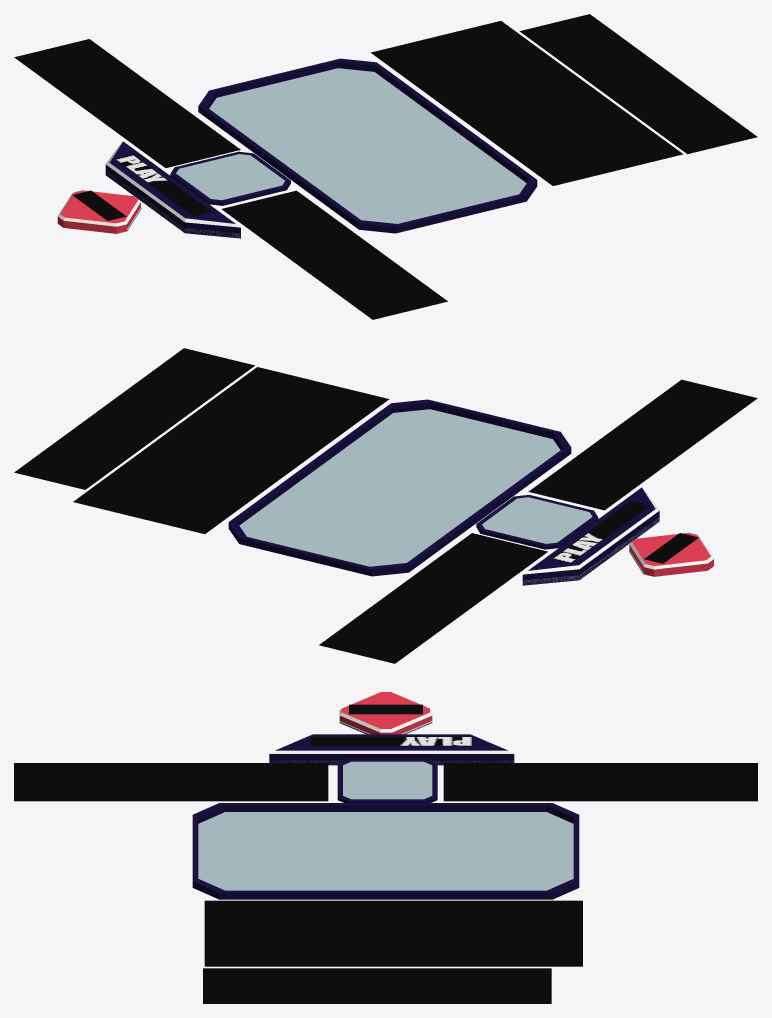
Rendered from BoardCenter.fbx.
3 renders of one model, top to bottom at view 1: azimuth 30°, elevation 25°; view 2: azimuth 150°, elevation 25°; view 3: azimuth 270°, elevation 25°, orthographic. The views are drawn at different scales.
Visible parts, largest first — view 1: ActionInfoPanel, CardsFrame, UserInfoPanels, PlayCardButton, DiceFrame, RollButton; view 2: ActionInfoPanel, CardsFrame, UserInfoPanels, PlayCardButton, DiceFrame, RollButton, PlayCardButtonPressed; view 3: ActionInfoPanel, CardsFrame, UserInfoPanels, PlayCardButton, DiceFrame, RollButton.
Boxes of the visible parts, box(x1,y1,x2,y2) form: ActionInfoPanel: box(371, 14, 757, 185); CardsFrame: box(198, 58, 537, 233); UserInfoPanels: box(14, 39, 447, 319); PlayCardButton: box(105, 141, 240, 238); DiceFrame: box(170, 151, 290, 205); RollButton: box(57, 190, 140, 233); ActionInfoPanel: box(14, 348, 389, 533); CardsFrame: box(228, 399, 571, 576); UserInfoPanels: box(319, 379, 757, 663); PlayCardButton: box(522, 487, 659, 585); DiceFrame: box(476, 495, 598, 549); RollButton: box(629, 532, 713, 576); PlayCardButtonPressed: box(522, 517, 659, 585); ActionInfoPanel: box(203, 900, 582, 1003); CardsFrame: box(192, 803, 579, 899); UserInfoPanels: box(14, 763, 757, 801); PlayCardButton: box(269, 734, 514, 765); DiceFrame: box(337, 759, 437, 802); RollButton: box(339, 692, 432, 734).
Size of the model in its own units: 13.2 by 0.2945 by 13.47.
